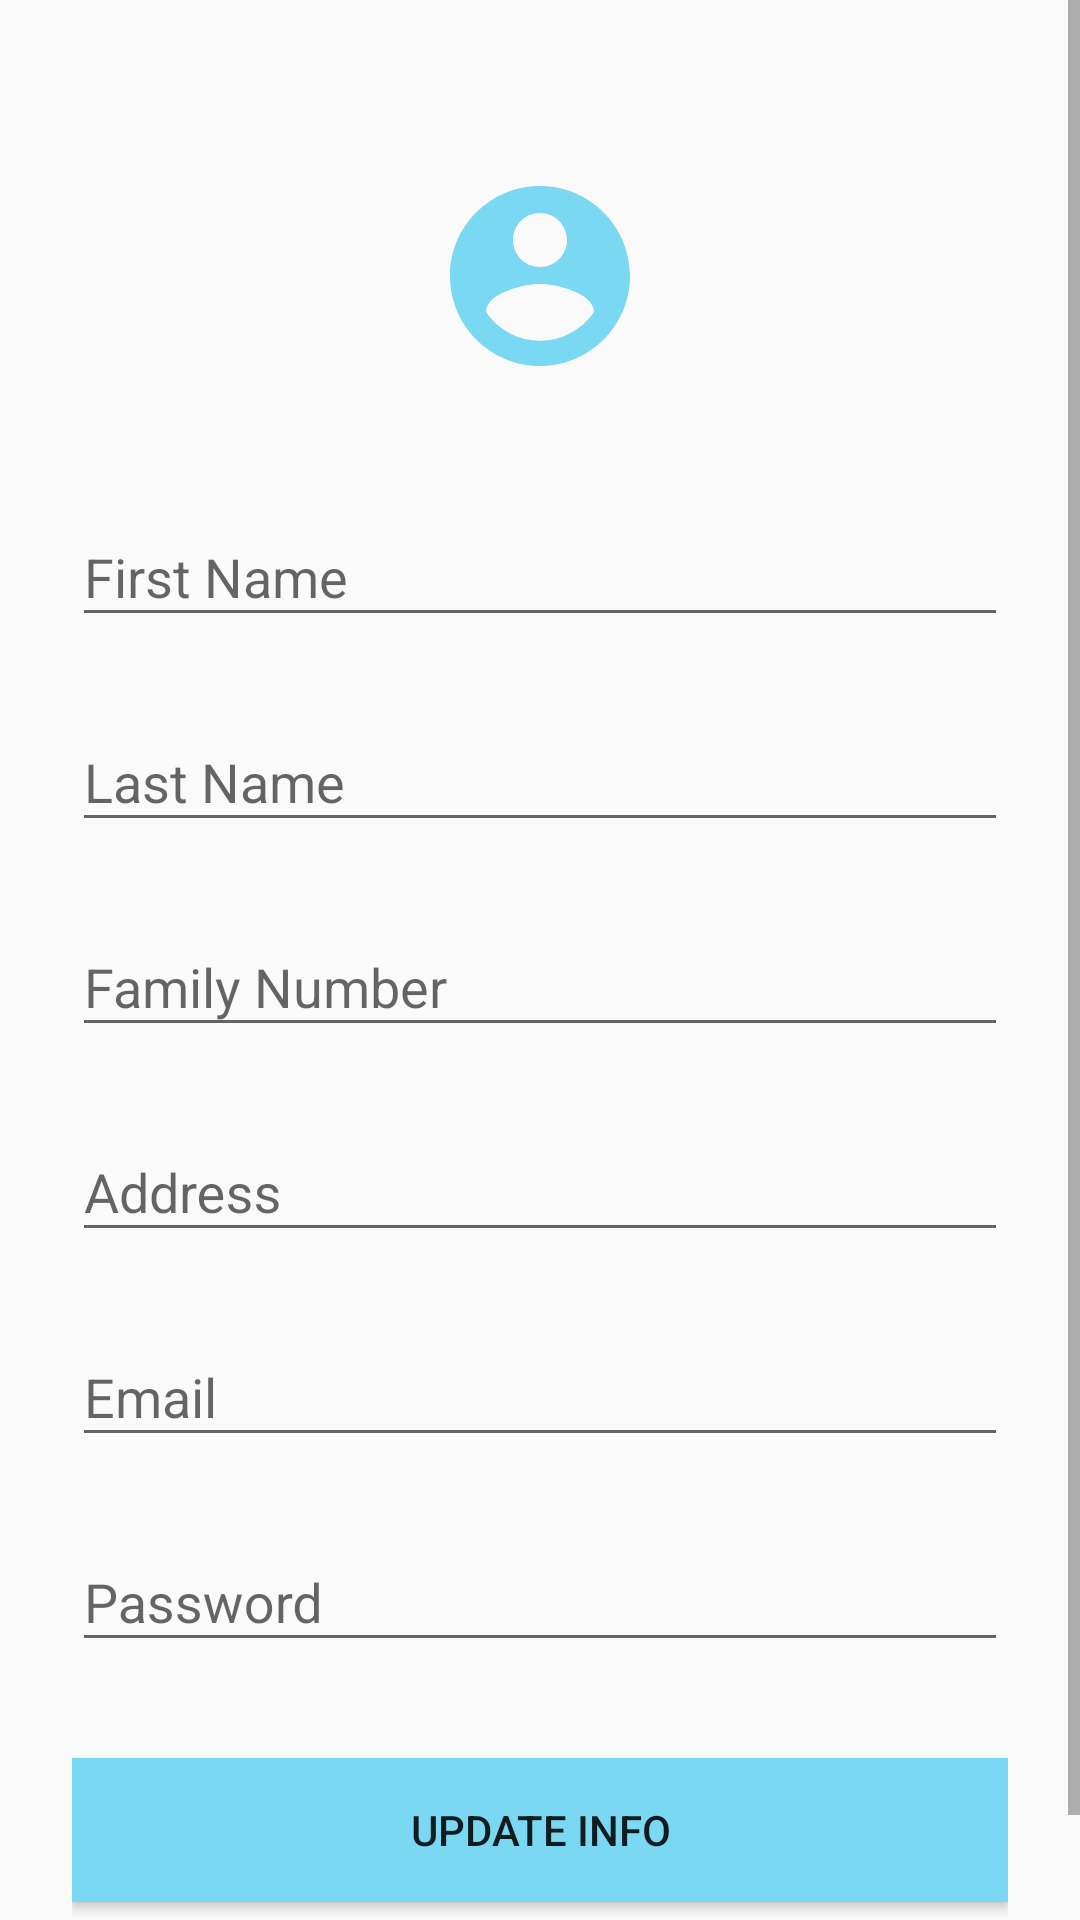

Icon click points for this 1080 × 1920 phone screenshot, format (x=x, y=y):
profile account: (x=540, y=276)
